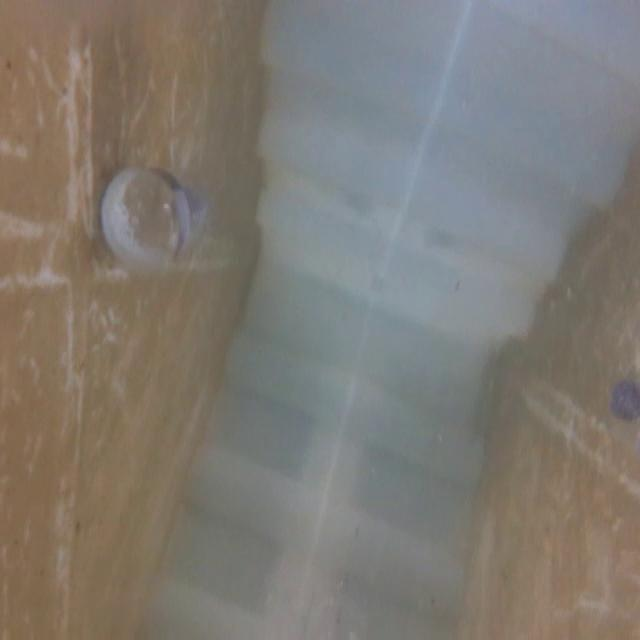plastic bottle: (83, 167, 223, 282)
